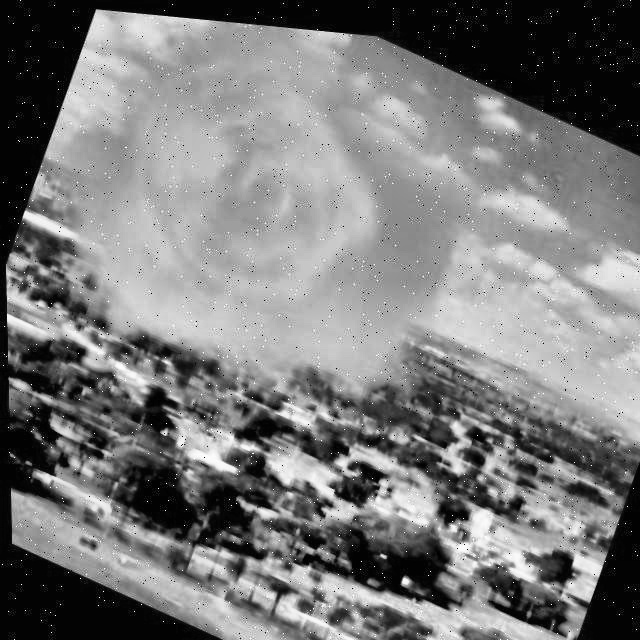Smoke: (0, 0, 504, 454)
